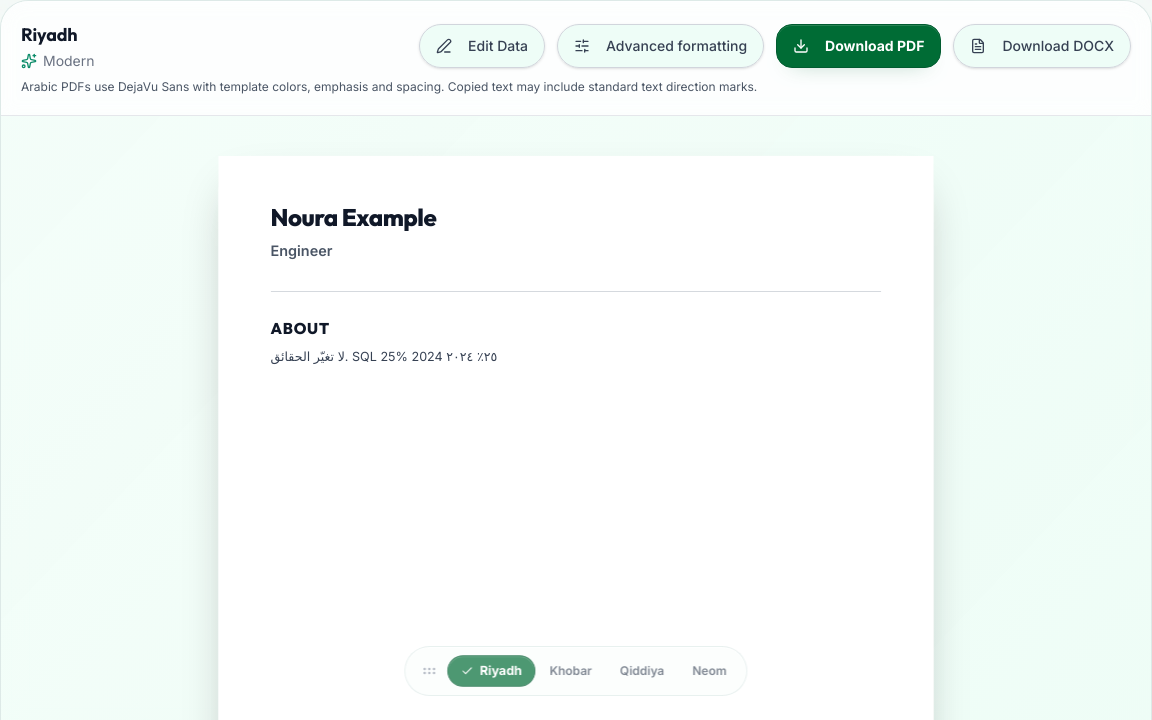
Test: Text PDF recovery review › sends the captured styled Arabic document directly and downloads only after the text gate
Click the button "Download PDF".
click(859, 46)  # box [776,24,941,68]
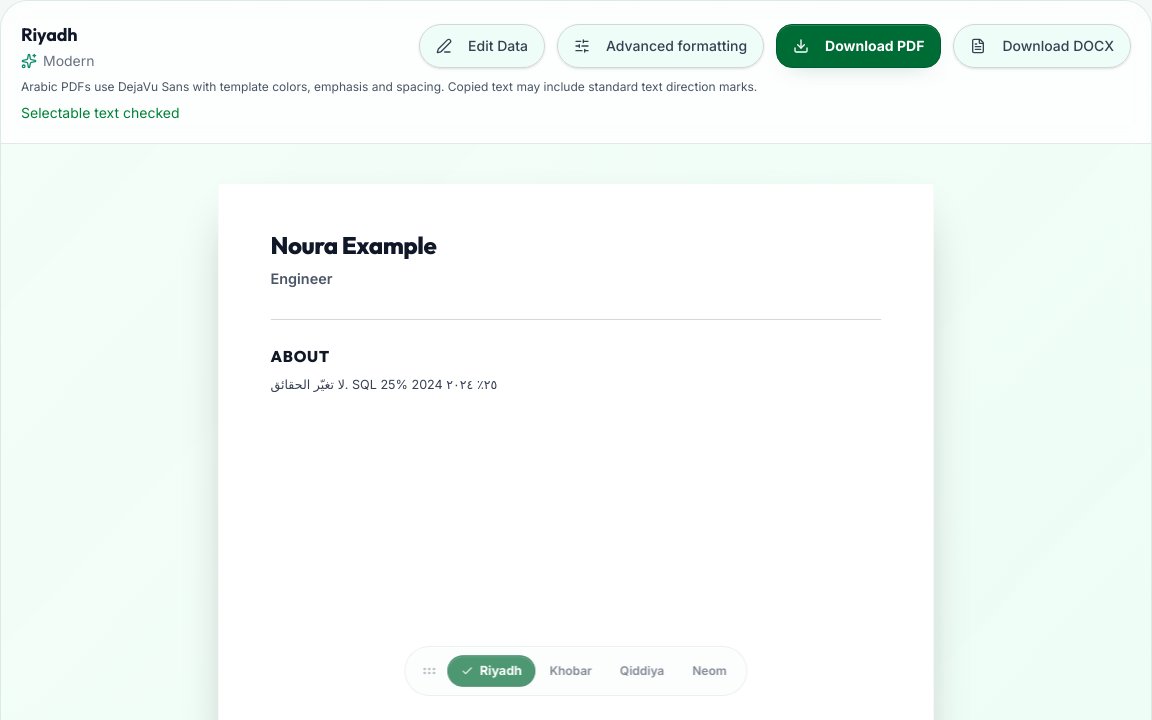
Result: the message reads "Selectable text checked" at [21,104,180,121]
